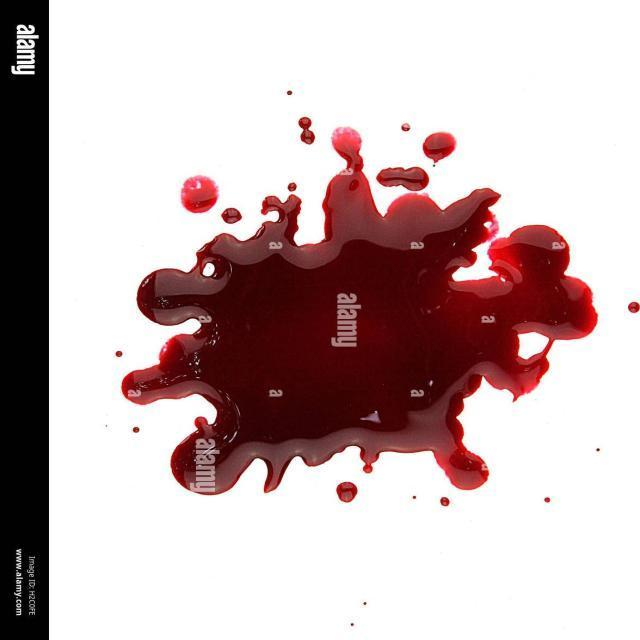flood: (112, 66, 612, 550)
